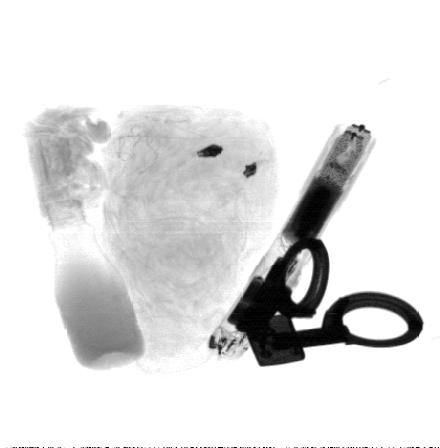Baton: (206, 123, 376, 360)
HandCuffs: (232, 237, 422, 351)
Lighter: (242, 313, 306, 366)
